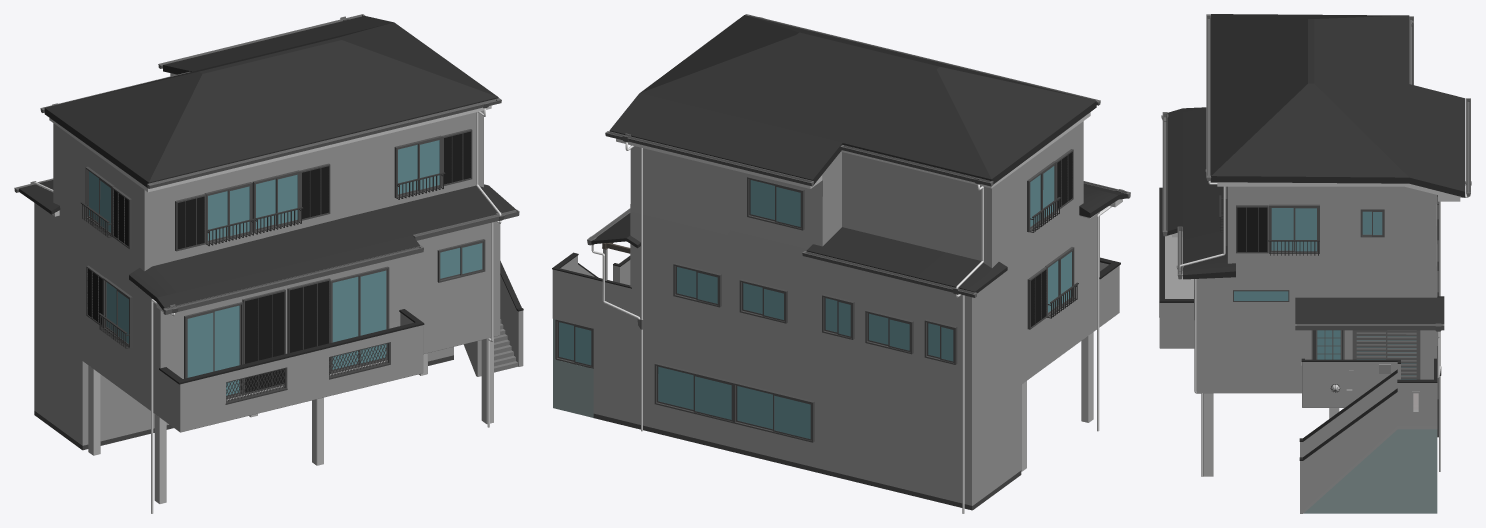
The model's file is house_10_high.fbx.
3 renders of one model, left to right at view 1: azimuth 30°, elevation 25°; view 2: azimuth 150°, elevation 25°; view 3: azimuth 270°, elevation 25°, orthographic. The views are drawn at different scales.
Visible parts, largest first — view 1: polySurface10; view 2: polySurface10; view 3: polySurface10.
Part boxes in pixels (x1,y1,x2,y2): polySurface10: (14,14,523,513); polySurface10: (552,14,1130,513); polySurface10: (1159,14,1471,513).
Bounding box in the file's own units: 1265 × 1055 × 838.
